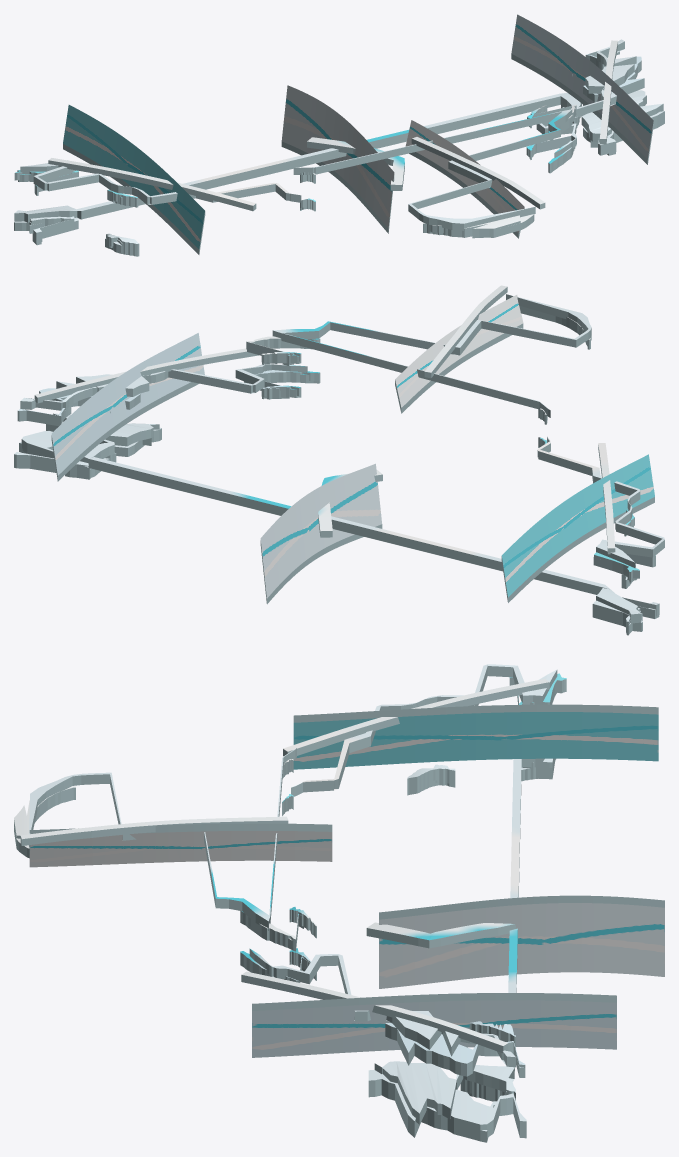
Rendered from yuna_curve_bundle_hair_v1.obj.
The picture shows the model from 3 angles, top to bottom: view 1: azimuth 30°, elevation 25°; view 2: azimuth 150°, elevation 25°; view 3: azimuth 270°, elevation 25°; orthographic projection. The views are drawn at different scales.
Parts seen in each view (by area): view 1: secondary_01_back_hair_mass, side_hair_right_primary_side_profile_support, back_hair_mass_side_profile_support, side_hair_left_primary_side_profile_support, secondary_04_bangs_primary, secondary_02_side_hair_left_primary, bangs_primary_side_profile_support, secondary_03_side_hair_right_primary, flyaway_02_side_hair_left_primary, flyaway_01_bangs_primary, flyaway_04_back_hair_mass, bangs_primary_component_01_01 (+8 smaller); view 2: secondary_01_back_hair_mass, back_hair_mass_side_profile_support, side_hair_left_primary_side_profile_support, side_hair_right_primary_side_profile_support, secondary_04_bangs_primary, bangs_primary_side_profile_support, secondary_03_side_hair_right_primary, secondary_02_side_hair_left_primary, flyaway_03_side_hair_right_primary, flyaway_01_bangs_primary, back_hair_mass_component_01_03, flyaway_02_side_hair_left_primary (+9 smaller); view 3: back_hair_mass_side_profile_support, side_hair_left_primary_side_profile_support, side_hair_right_primary_side_profile_support, bangs_primary_side_profile_support, secondary_01_back_hair_mass, secondary_03_side_hair_right_primary, secondary_04_bangs_primary, secondary_02_side_hair_left_primary, flyaway_03_side_hair_right_primary, flyaway_02_side_hair_left_primary, back_hair_mass_component_01_03, flyaway_01_bangs_primary (+6 smaller).
Boxes of the visible parts, <box> form: secondary_01_back_hair_mass: <box>14,93,663,222</box>; side_hair_right_primary_side_profile_support: <box>511,14,653,164</box>; back_hair_mass_side_profile_support: <box>281,85,394,233</box>; side_hair_left_primary_side_profile_support: <box>63,105,205,254</box>; secondary_04_bangs_primary: <box>293,109,572,230</box>; secondary_02_side_hair_left_primary: <box>20,160,301,204</box>; bangs_primary_side_profile_support: <box>405,120,524,238</box>; secondary_03_side_hair_right_primary: <box>536,39,636,158</box>; flyaway_02_side_hair_left_primary: <box>48,158,256,211</box>; flyaway_01_bangs_primary: <box>411,137,545,209</box>; flyaway_04_back_hair_mass: <box>307,137,404,190</box>; bangs_primary_component_01_01: <box>423,214,534,238</box>; secondary_01_back_hair_mass: <box>46,413,641,623</box>; back_hair_mass_side_profile_support: <box>260,463,382,604</box>; side_hair_left_primary_side_profile_support: <box>501,454,654,602</box>; side_hair_right_primary_side_profile_support: <box>51,333,204,481</box>; secondary_04_bangs_primary: <box>272,294,591,417</box>; bangs_primary_side_profile_support: <box>395,295,523,413</box>; secondary_03_side_hair_right_primary: <box>20,364,307,410</box>; secondary_02_side_hair_left_primary: <box>537,437,664,567</box>; flyaway_03_side_hair_right_primary: <box>34,348,258,403</box>; flyaway_01_bangs_primary: <box>424,285,507,378</box>; back_hair_mass_component_01_03: <box>14,427,161,467</box>; flyaway_02_side_hair_left_primary: <box>598,443,615,554</box>; back_hair_mass_side_profile_support: <box>379,895,664,988</box>; side_hair_left_primary_side_profile_support: <box>293,704,658,769</box>; side_hair_right_primary_side_profile_support: <box>252,993,616,1057</box>; bangs_primary_side_profile_support: <box>29,823,332,867</box>; secondary_01_back_hair_mass: <box>374,758,544,1124</box>; secondary_03_side_hair_right_primary: <box>249,948,515,1067</box>; secondary_04_bangs_primary: <box>29,748,296,930</box>; secondary_02_side_hair_left_primary: <box>291,664,557,796</box>; flyaway_03_side_hair_right_primary: <box>241,971,508,1053</box>; flyaway_02_side_hair_left_primary: <box>283,679,549,756</box>; back_hair_mass_component_01_03: <box>368,1070,526,1135</box>; flyaway_01_bangs_primary: <box>20,816,288,845</box>.
Bounding box in the file's own units: 3 × 0.6088 × 2.1.
7 materials, 6 textured.
